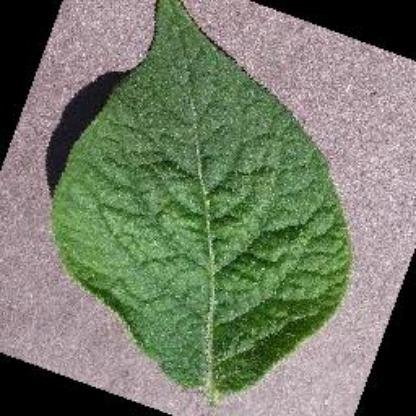Healthy-plant: (46, 0, 360, 404)
